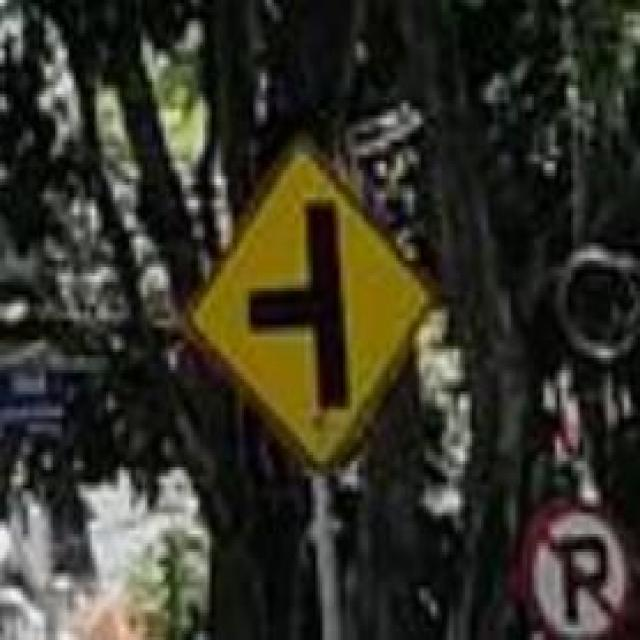traffic sign: (191, 143, 426, 456)
